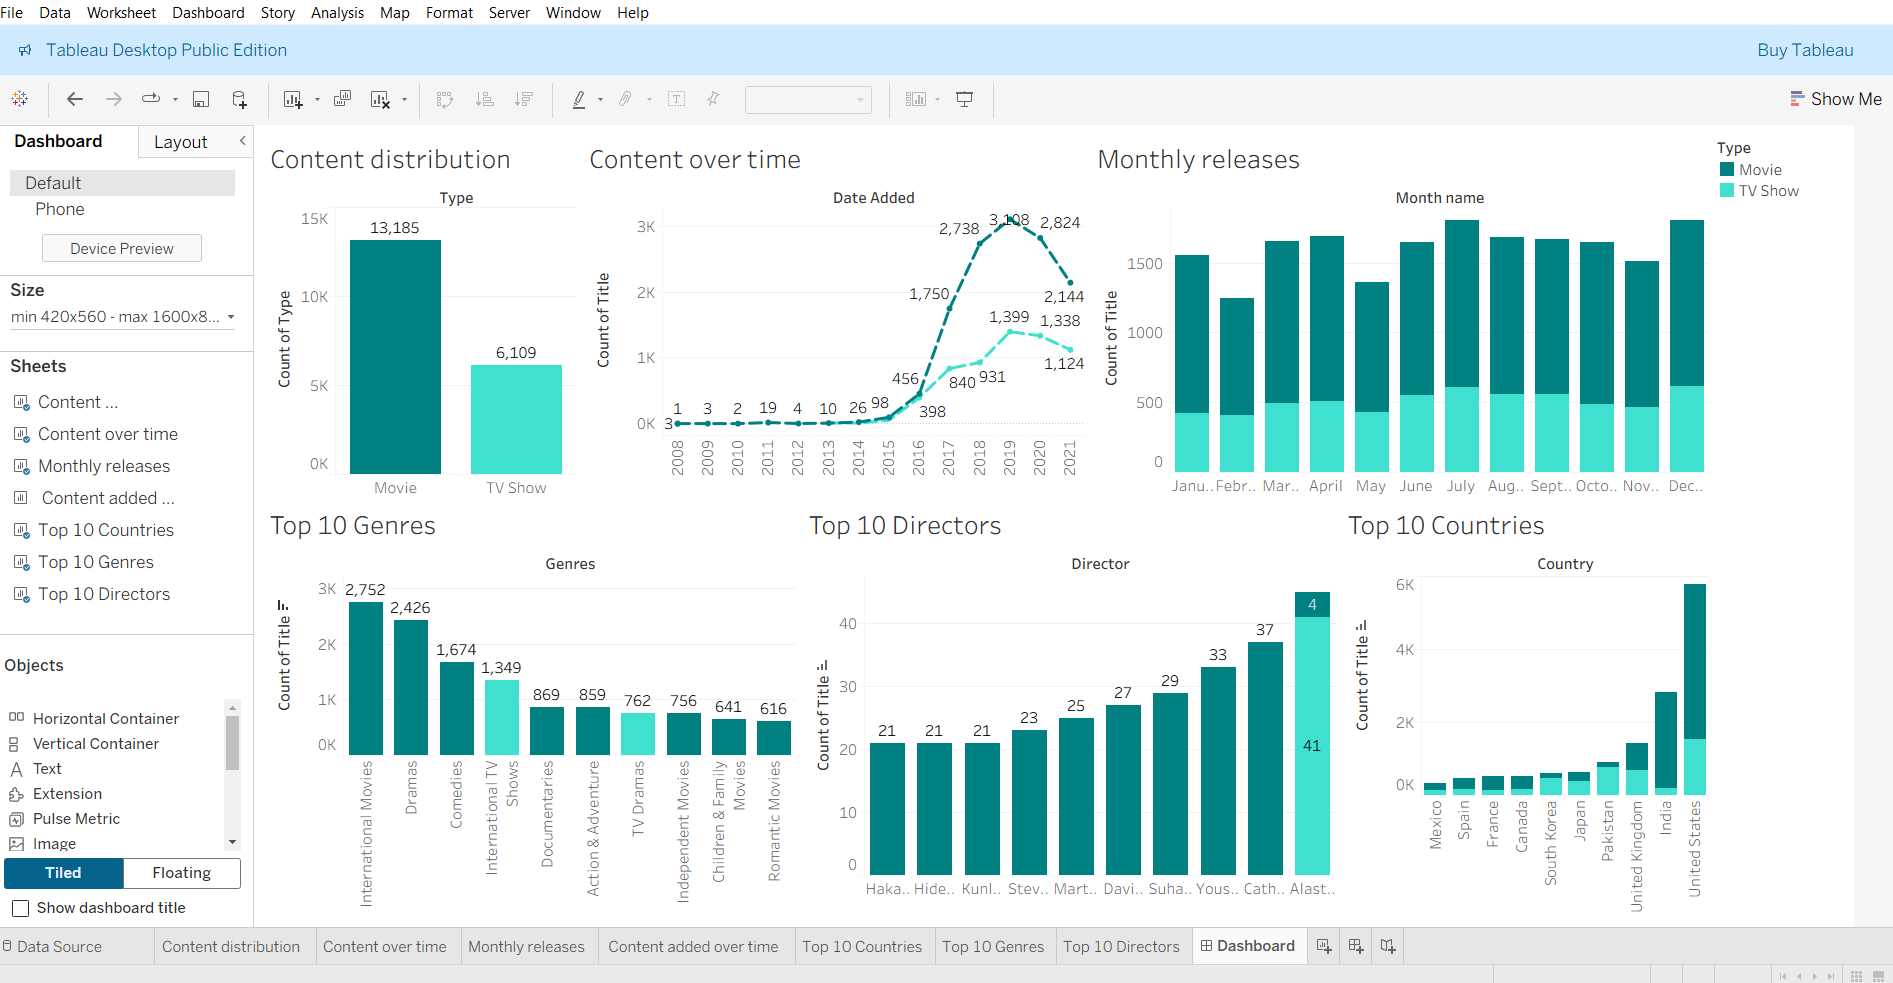

Layout of this report page (visuals, bound fields, positions):
{"tool":"tableau","page":{"name":"Dashboard ","canvas":[1000,1000],"units":"permille","ordinal":0},"visuals":[{"type":"worksheet","title":"Content distribution","mark":"Automatic","rows":["type"],"cols":["type"],"box":[5,10,199.4,456.2]},{"type":"worksheet","title":"Content over time","mark":"Automatic","rows":["title"],"cols":["date_added"],"box":[204.4,10,317.5,456.2]},{"type":"worksheet","title":"Monthly releases","mark":"Automatic","rows":["title"],"cols":["Calculation_1523905566264504320"],"box":[521.9,10,390,456.2]},{"type":"legend","title":"Content over time","param":"[federated.0f3tcc71to27do1cyp0f91fqdgjw].[none:type:nk]","box":[911.9,10,83.1,89.8]},{"type":"worksheet","title":"Top 10 Genres","mark":"Automatic","rows":["title"],"cols":["genres"],"box":[5,466.2,336.9,523.8]},{"type":"worksheet","title":"Top 10 Directors","mark":"Automatic","rows":["title"],"cols":["director"],"box":[341.9,466.2,336.9,523.8]},{"type":"worksheet","title":"Top 10 Countries","mark":"Automatic","rows":["title"],"cols":["country"],"box":[678.7,466.2,233.1,523.8]}]}

Visuals, with their boxes on the dashboard's canvas, which has no fixed pixel size, in thousandths of its width and height (x1, y1, x2, y2). These are canvas units, not pixel positions in the 1893x983 screenshot, which may show the page scaled, cropped or inside an application window:
"Content distribution" worksheet: rect(5, 10, 204, 466)
"Content over time" worksheet: rect(204, 10, 522, 466)
"Monthly releases" worksheet: rect(522, 10, 912, 466)
"Content over time" legend: rect(912, 10, 995, 100)
"Top 10 Genres" worksheet: rect(5, 466, 342, 990)
"Top 10 Directors" worksheet: rect(342, 466, 679, 990)
"Top 10 Countries" worksheet: rect(679, 466, 912, 990)
